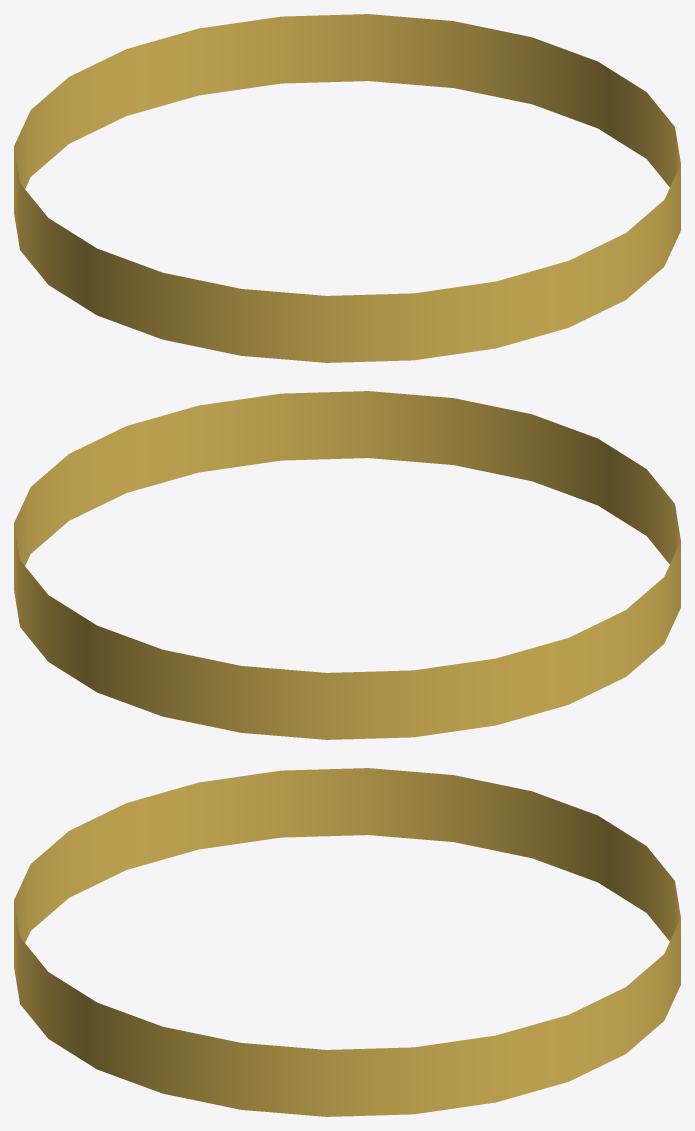
Rendered from original-3.obj.
3 renders of one model, top to bottom at view 1: azimuth 30°, elevation 25°; view 2: azimuth 150°, elevation 25°; view 3: azimuth 270°, elevation 25°, orthographic.
Visible parts, largest first — view 1: #ID4; view 2: #ID4; view 3: #ID4.
Part boxes in pixels (left/top/right/bottom): #ID4: left=14, top=14, right=680, bottom=362; #ID4: left=14, top=391, right=680, bottom=739; #ID4: left=14, top=768, right=680, bottom=1116.
Size of the model in its own units: 0.0549 by 0.00609 by 0.0549.
